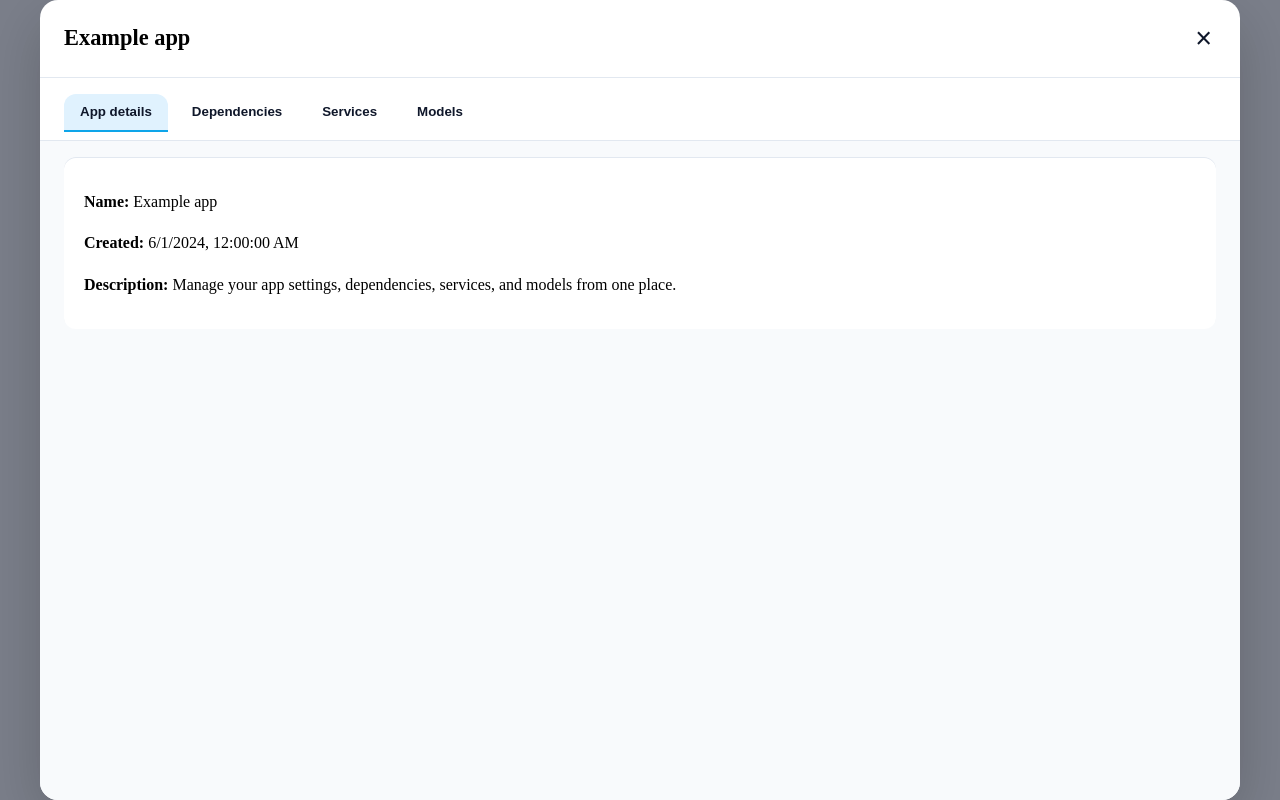
it: AppModal › shows details by default and switches tabs
Expected: the text "Name:" is shown, [84,193,129,210]
Click the tab "Services" at (350, 113), box [306,94,393,132]
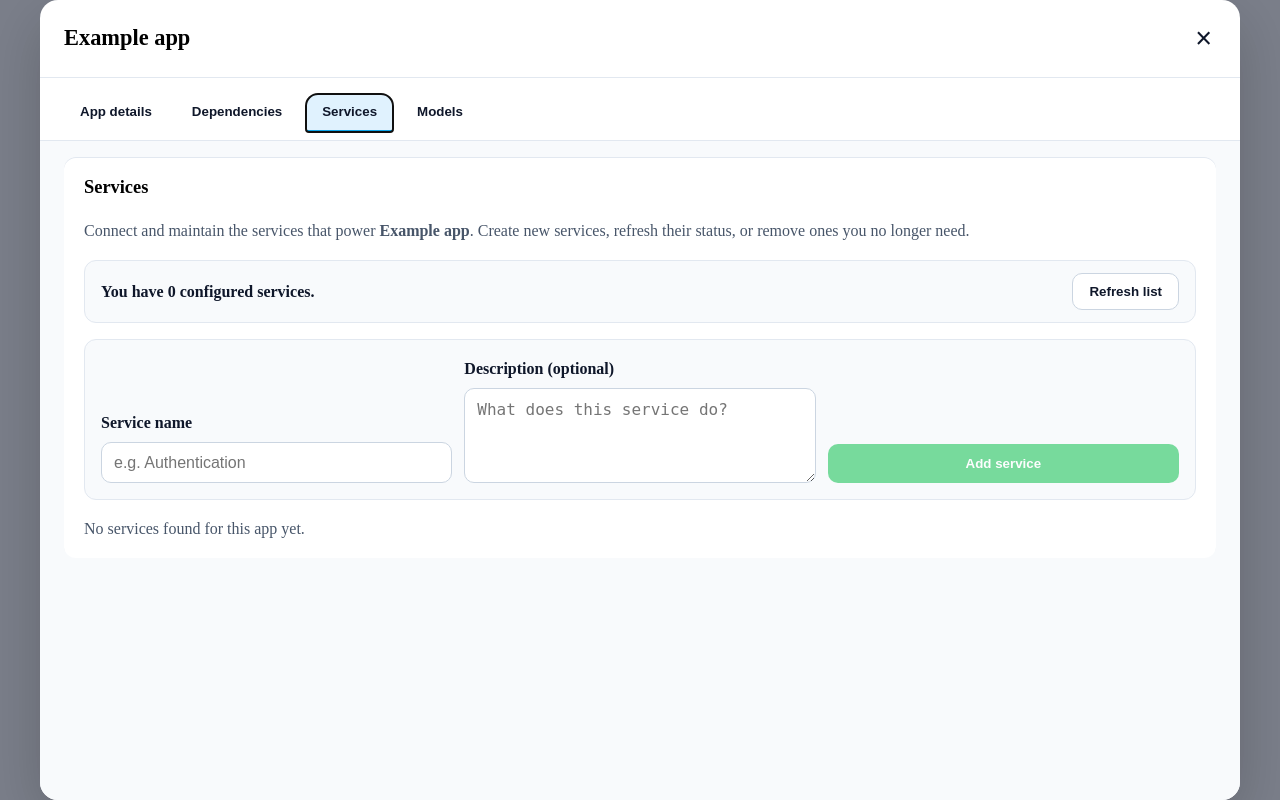
Expected: the text "No services found for this app yet." is shown, [84,520,305,537]
